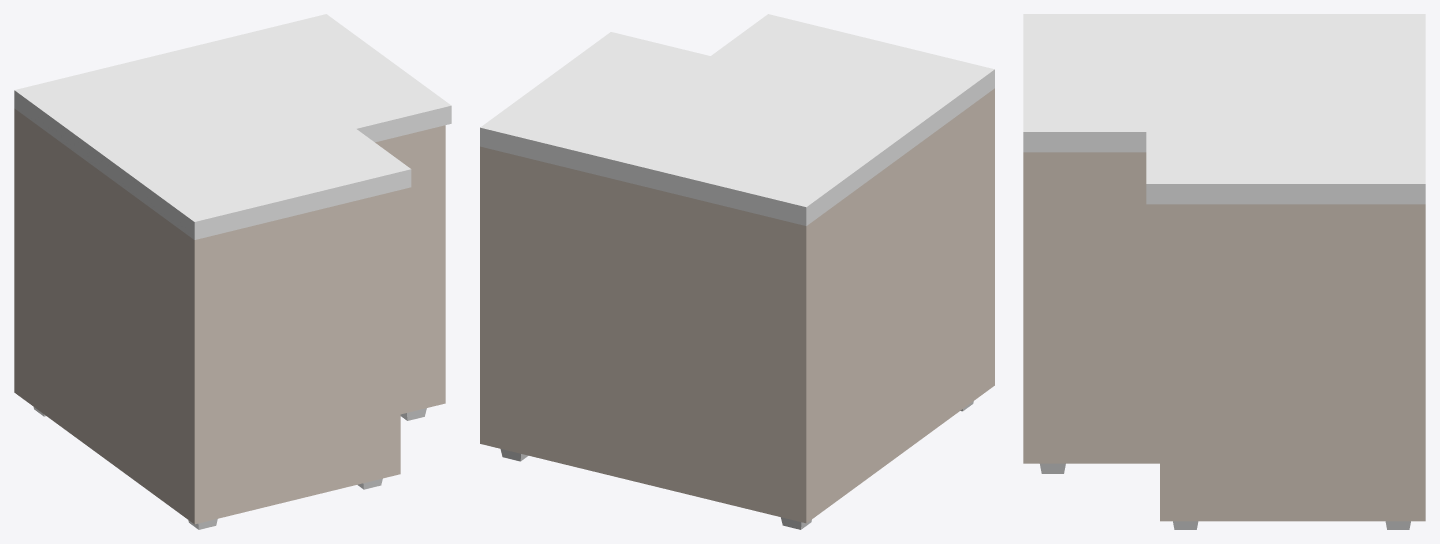
3 views of the same model, side by side, from view 1: azimuth 30°, elevation 25°; view 2: azimuth 150°, elevation 25°; view 3: azimuth 270°, elevation 25° (orthographic). The views are drawn at different scales.
Parts seen in each view (by area): view 1: polySurface20, polySurface20.001, polySurface24.001; view 2: polySurface20, polySurface20.001; view 3: polySurface20, polySurface20.001, polySurface24.001.
Boxes of the visible parts, x1,y1,x2,y2 form: polySurface20: (14, 108, 445, 524); polySurface20.001: (14, 14, 451, 239); polySurface24.001: (33, 407, 426, 529); polySurface20: (480, 88, 994, 523); polySurface20.001: (480, 14, 994, 225); polySurface20: (1023, 152, 1425, 521); polySurface20.001: (1023, 14, 1425, 204); polySurface24.001: (1040, 463, 1410, 529).
Bounding box in the file's own units: 100 × 97.04 × 100.
